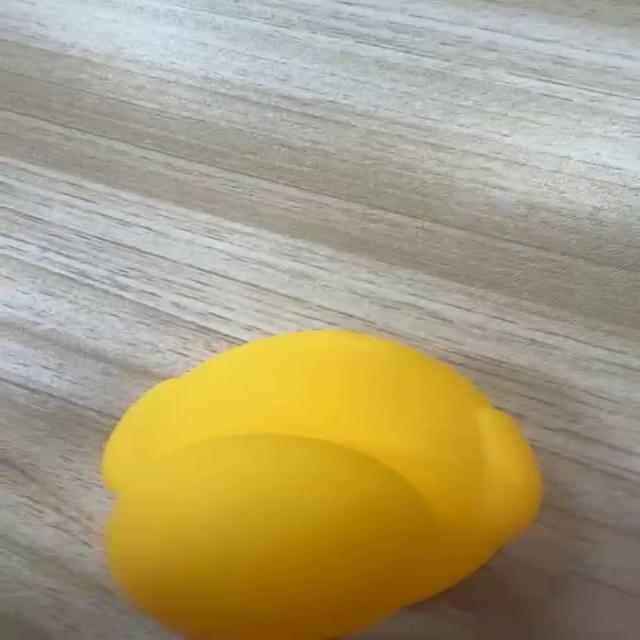yellow_duck: (99, 328, 546, 638)
